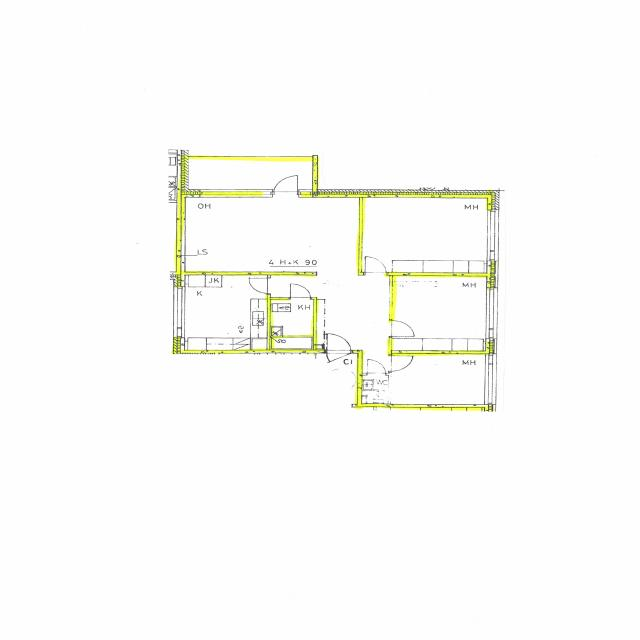door: (274, 173, 298, 197), (327, 333, 351, 353), (327, 350, 351, 370), (390, 355, 414, 371), (390, 321, 414, 336), (246, 278, 270, 293), (365, 258, 386, 275), (291, 283, 310, 299), (368, 360, 386, 375)
